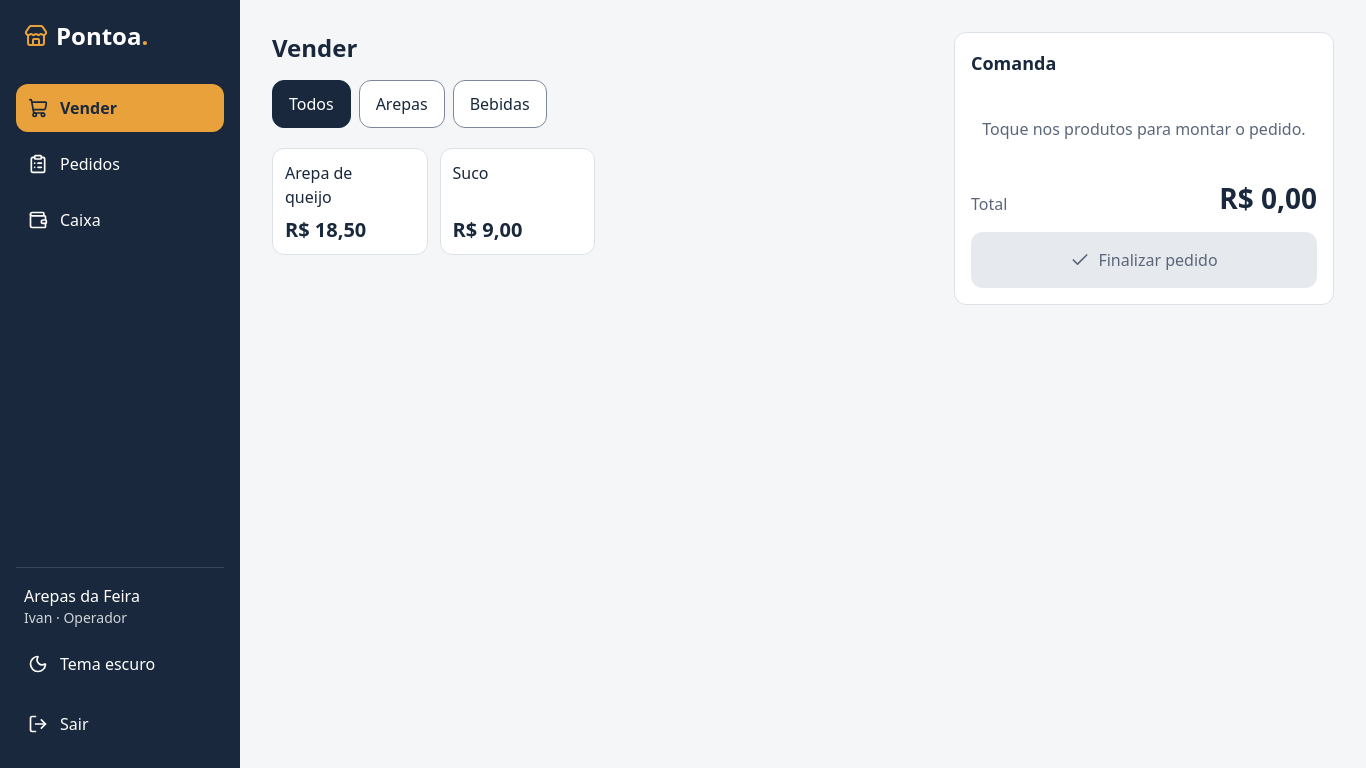
it: PosPage › removes an item and lets the attendant undo it
The width and height of the screenshot is (1366, 768).
Click the button "Suco R$ 9,00". click: (517, 202)
box: [440,148,595,255]
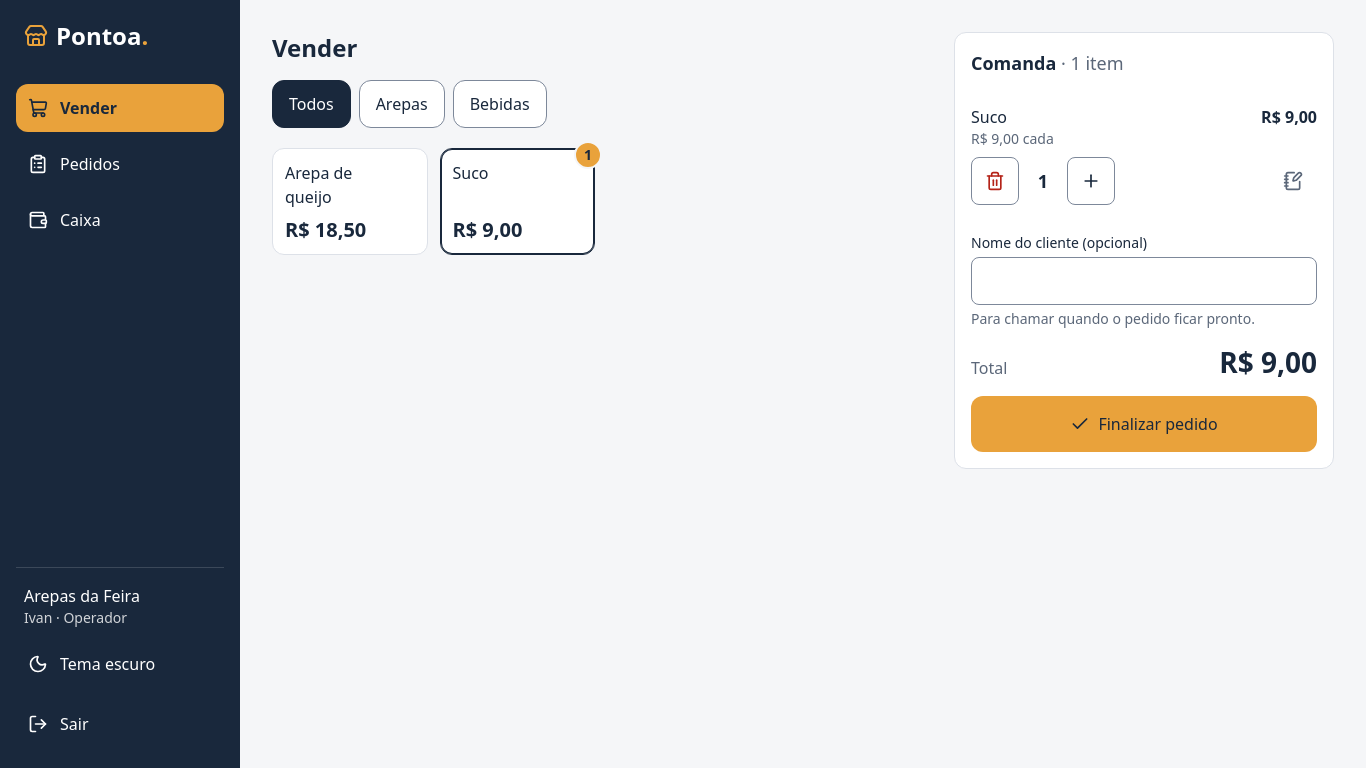
Click the button named "Remover Suco". click: (995, 181)
box: [971,157,1019,205]
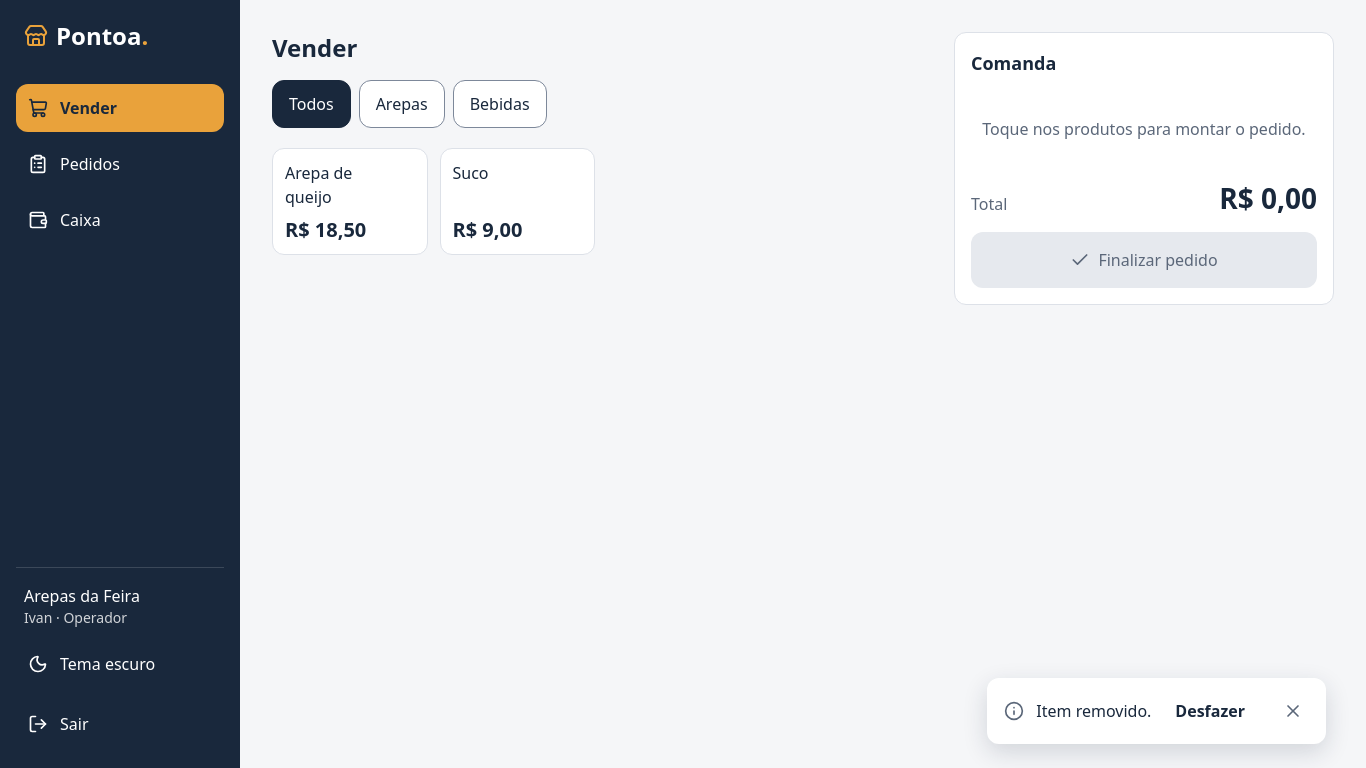
Click the button "Desfazer". click: (1210, 711)
box: [1163,687,1257,735]
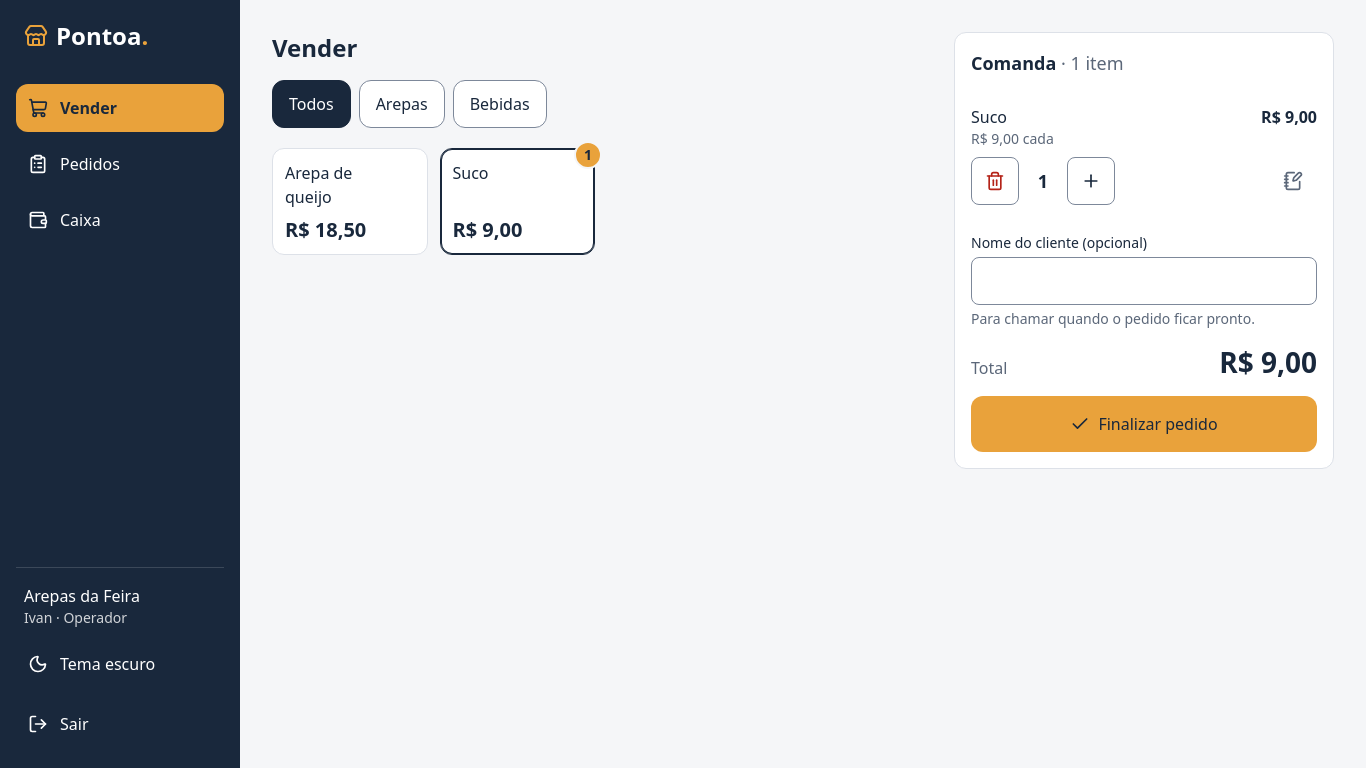
Now the 1st text "Suco" is shown, box [971,106,1007,128]
